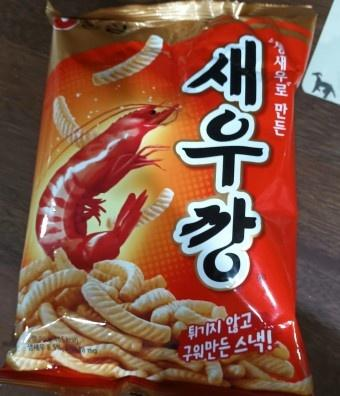snack: (0, 0, 317, 396)
